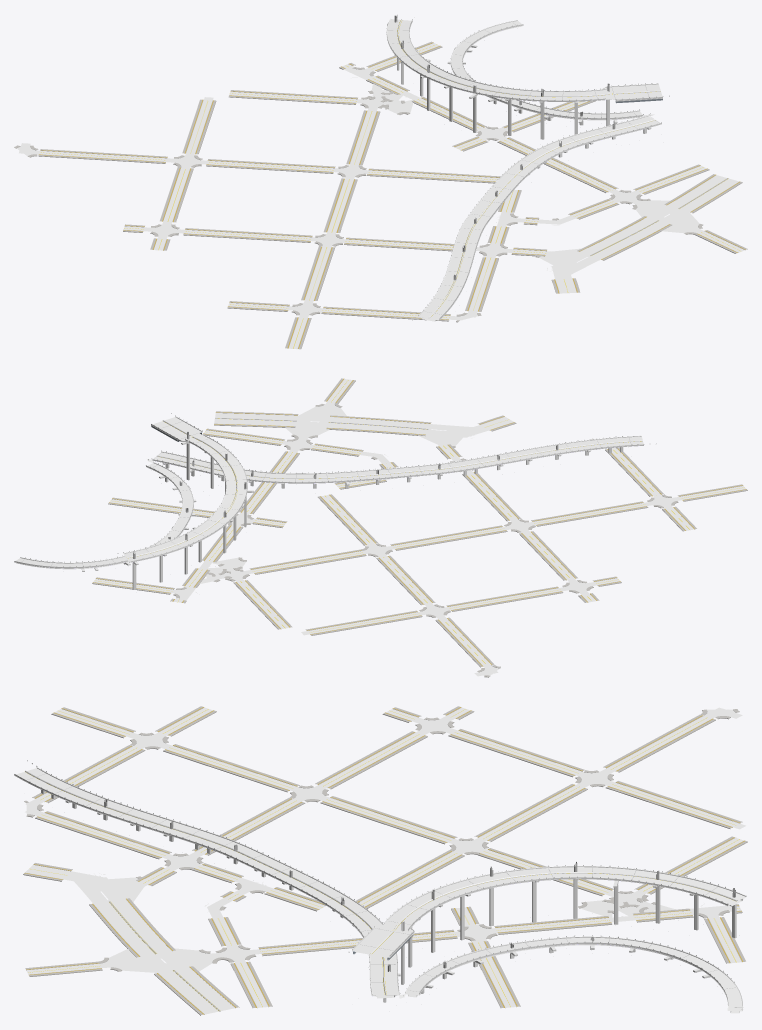
The model's file is roads_1_2.gltf.
3 renders of one model, top to bottom at view 1: azimuth 30°, elevation 25°; view 2: azimuth 150°, elevation 25°; view 3: azimuth 270°, elevation 25°, orthographic. The views are drawn at different scales.
Visible parts, largest first — view 1: roads_1_2_SH_wet_asphalt, roads_1_2_SH_sidewalk, roads_1_2_SH_concrete_pier, roads_1_2_Road_Tactile_Strip, roads_1_2_SH_kerb, roads_1_2_SH_concrete_barrier, roads_1_2_SH_road_marking_white, roads_1_2_SH_road_marking_yellow; view 2: roads_1_2_SH_wet_asphalt, roads_1_2_SH_sidewalk, roads_1_2_SH_concrete_pier, roads_1_2_SH_concrete_barrier, roads_1_2_Road_Tactile_Strip, roads_1_2_SH_kerb, roads_1_2_SH_road_marking_white, roads_1_2_SH_road_marking_yellow; view 3: roads_1_2_SH_wet_asphalt, roads_1_2_SH_sidewalk, roads_1_2_SH_concrete_pier, roads_1_2_SH_concrete_barrier, roads_1_2_Road_Tactile_Strip, roads_1_2_SH_kerb, roads_1_2_SH_road_marking_white, roads_1_2_SH_road_marking_yellow.
Part boxes in pixels (bbox=[...]): roads_1_2_SH_wet_asphalt: bbox=[17, 19, 744, 349]; roads_1_2_SH_sidewalk: bbox=[14, 41, 747, 349]; roads_1_2_SH_concrete_pier: bbox=[386, 19, 662, 321]; roads_1_2_Road_Tactile_Strip: bbox=[39, 42, 745, 348]; roads_1_2_SH_kerb: bbox=[16, 43, 744, 348]; roads_1_2_SH_concrete_barrier: bbox=[386, 18, 662, 319]; roads_1_2_SH_road_marking_white: bbox=[18, 19, 741, 348]; roads_1_2_SH_road_marking_yellow: bbox=[41, 20, 739, 348]; roads_1_2_SH_wet_asphalt: bbox=[16, 379, 745, 676]; roads_1_2_SH_sidewalk: bbox=[92, 378, 747, 677]; roads_1_2_SH_concrete_pier: bbox=[14, 417, 643, 589]; roads_1_2_SH_concrete_barrier: bbox=[14, 416, 643, 568]; roads_1_2_Road_Tactile_Strip: bbox=[93, 379, 746, 666]; roads_1_2_SH_kerb: bbox=[95, 380, 746, 675]; roads_1_2_SH_road_marking_white: bbox=[36, 379, 742, 674]; roads_1_2_SH_road_marking_yellow: bbox=[98, 380, 744, 663]; roads_1_2_SH_wet_asphalt: bbox=[16, 707, 745, 1014]; roads_1_2_SH_sidewalk: bbox=[23, 706, 747, 1015]; roads_1_2_SH_concrete_pier: bbox=[14, 768, 745, 1013]; roads_1_2_SH_concrete_barrier: bbox=[14, 767, 746, 1009]; roads_1_2_Road_Tactile_Strip: bbox=[24, 707, 744, 1014]; roads_1_2_SH_kerb: bbox=[25, 707, 744, 1014]; roads_1_2_SH_road_marking_white: bbox=[28, 708, 743, 1013]; roads_1_2_SH_road_marking_yellow: bbox=[27, 709, 739, 1010].
Size of what is drawn, in the model's own units: 527 by 50.43 by 529.
